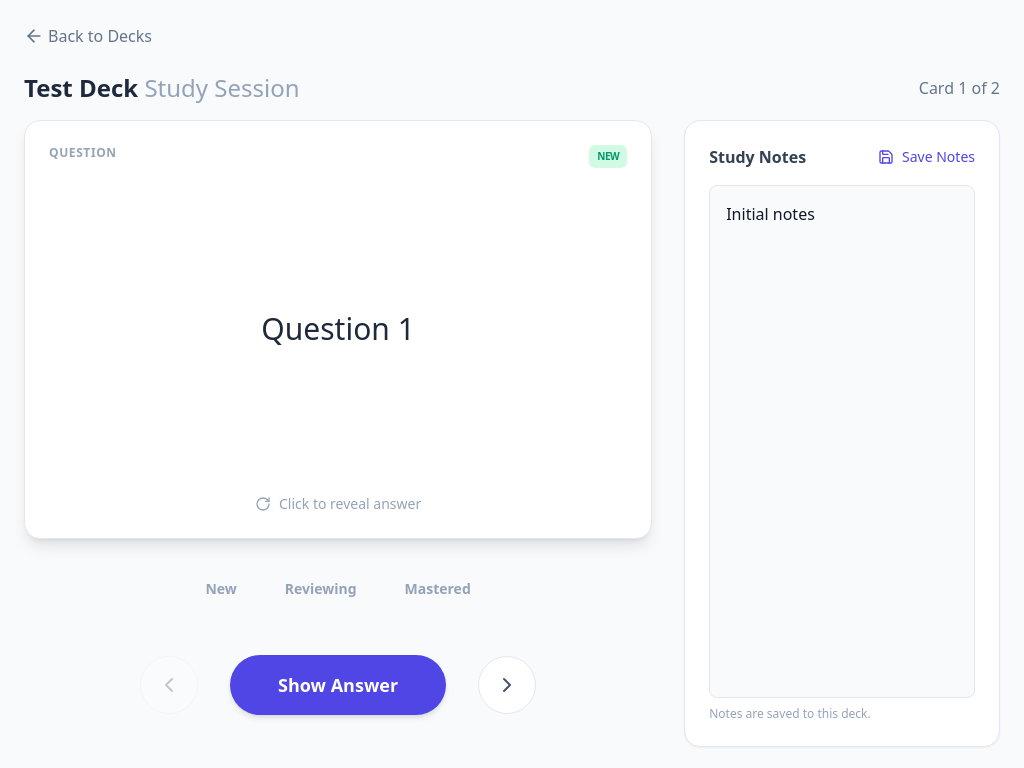
Test: StudyMode Component › navigates to the next card
Expected: the text "Question 1" is shown, [261, 311, 415, 347]
Expected: the text "Card 1 of 2" is shown, [919, 76, 1000, 100]
Click the button named "next card".
click(507, 685)  # box [478, 656, 536, 714]
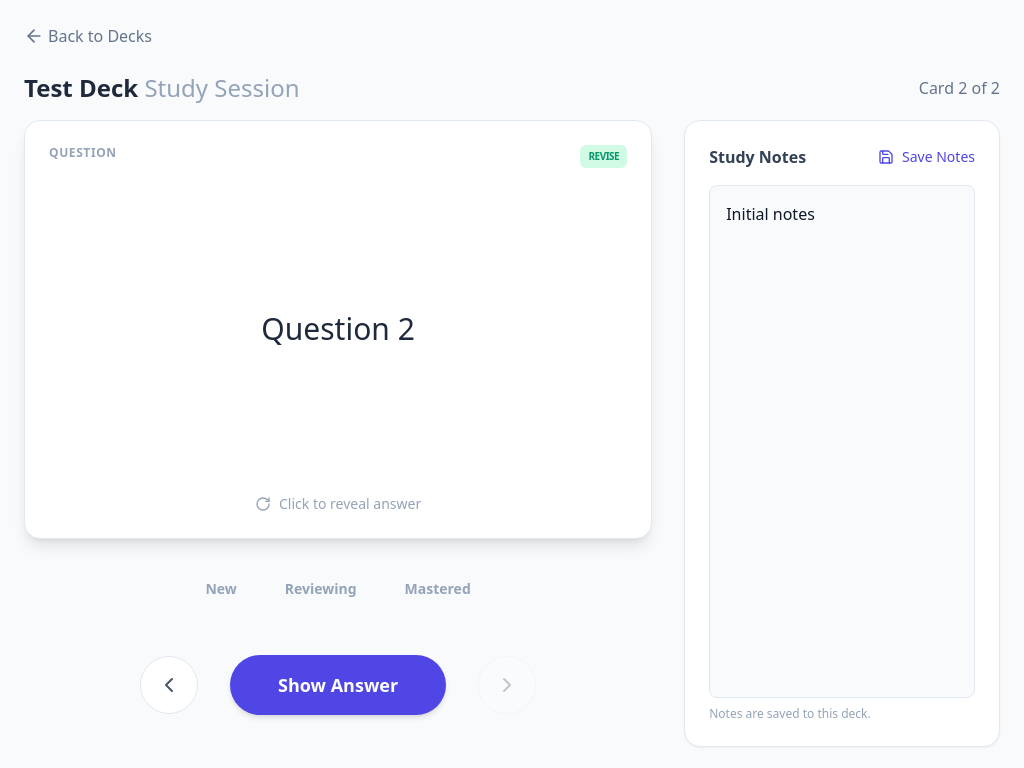
Expected: the text "Card 2 of 2" is shown, [919, 76, 1000, 100]
Expected: the text "Question 2" is shown, [261, 311, 415, 347]
